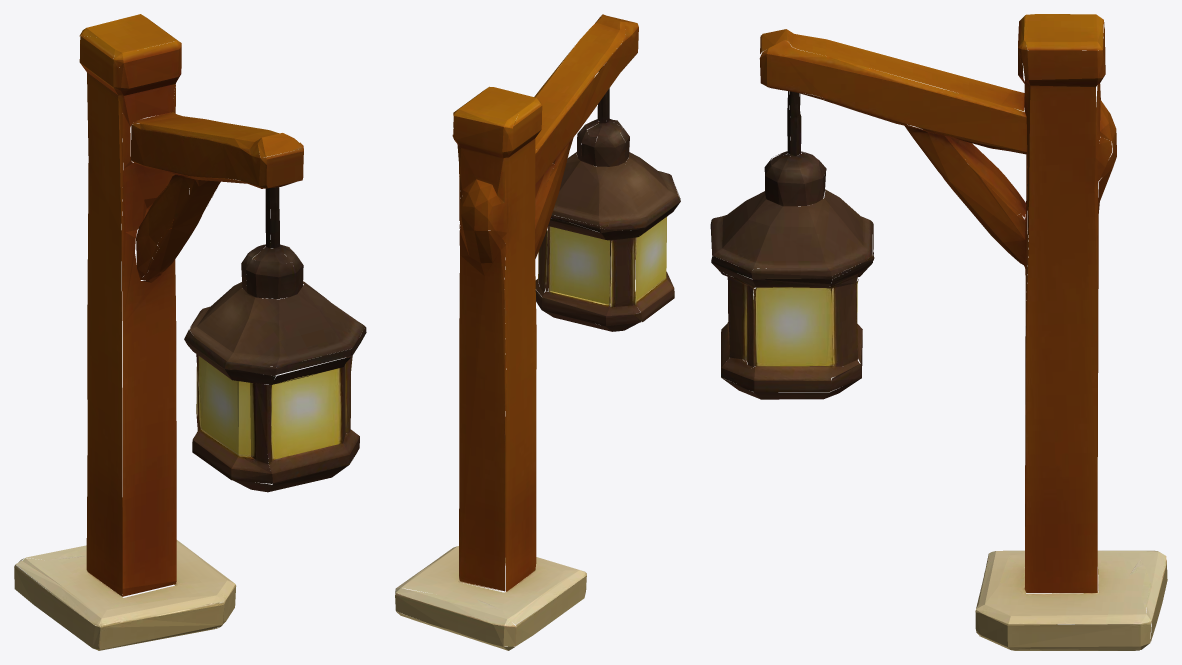
File: hanging_street_light.glb
3 renders of one model, left to right at view 1: azimuth 30°, elevation 25°; view 2: azimuth 150°, elevation 25°; view 3: azimuth 270°, elevation 25°, orthographic. The views are drawn at different scales.
Visible parts, largest first — view 1: geometry_0; view 2: geometry_0; view 3: geometry_0.
Boxes of the visible parts, left/top/right/bottom form: geometry_0: left=14, top=14, right=366, bottom=650; geometry_0: left=395, top=14, right=680, bottom=650; geometry_0: left=710, top=14, right=1167, bottom=650.
Bounding box in the file's own units: 0.2731 × 0.9973 × 0.7024.
1 material, 1 textured.
